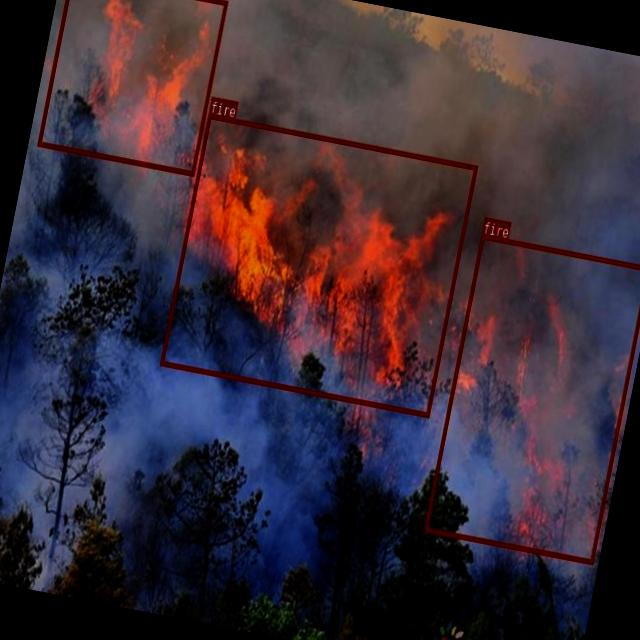fire: (160, 112, 478, 416), (423, 234, 640, 564), (37, 0, 227, 175)
